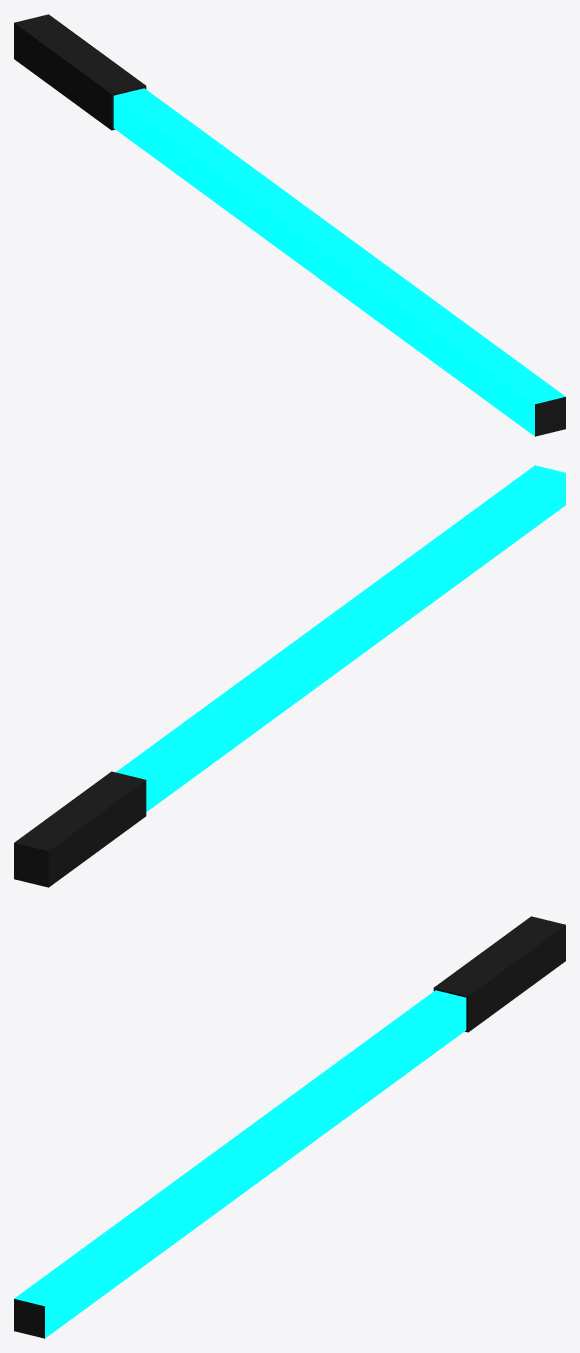
File: Actual_good_template.fbx
3 views of the same model, one above another, from view 1: azimuth 30°, elevation 25°; view 2: azimuth 150°, elevation 25°; view 3: azimuth 330°, elevation 25° (orthographic).
Parts seen in each view (by area): view 1: template, template.001; view 2: template, template.001; view 3: template, template.001.
Part boxes in pixels (x1,y1,x2,y2): template: (113,88,565,436); template.001: (14,14,565,436); template: (116,465,565,811); template.001: (14,771,146,887); template: (14,990,466,1338); template.001: (14,916,565,1338).
Size of the model in its own units: 4.65 by 4.65 by 120.
